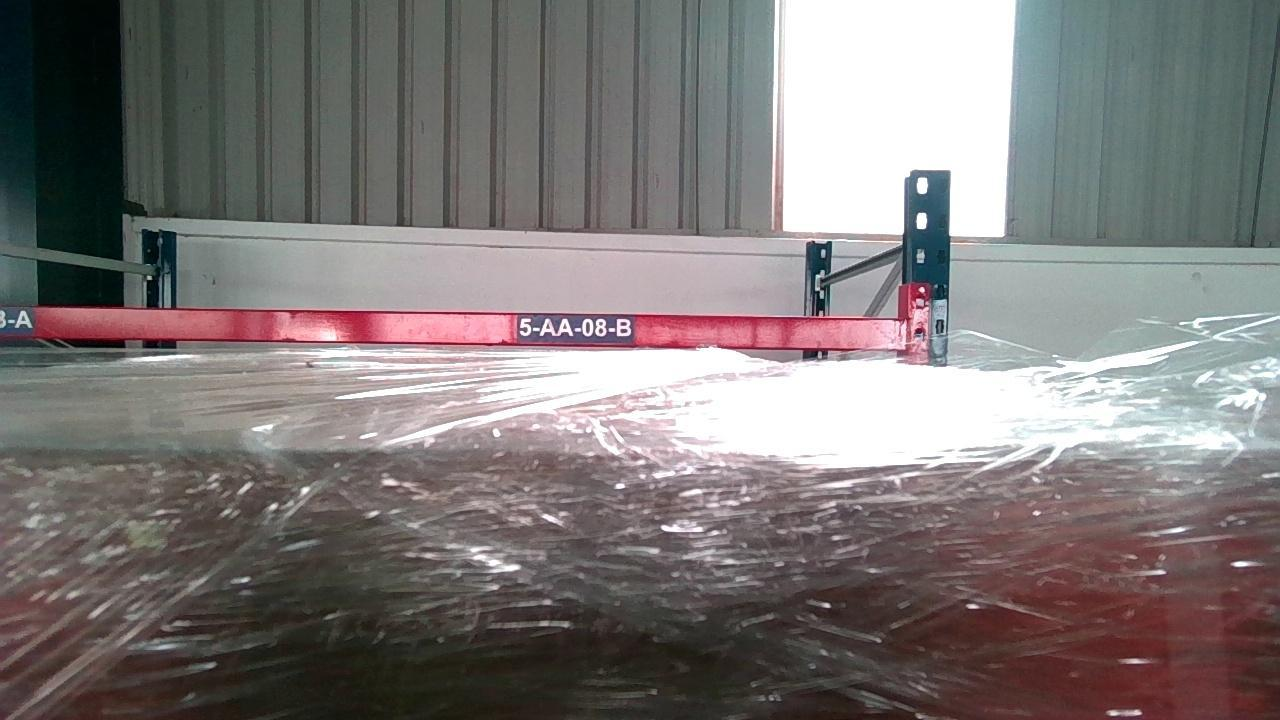h_rack: (0, 304, 907, 347)
